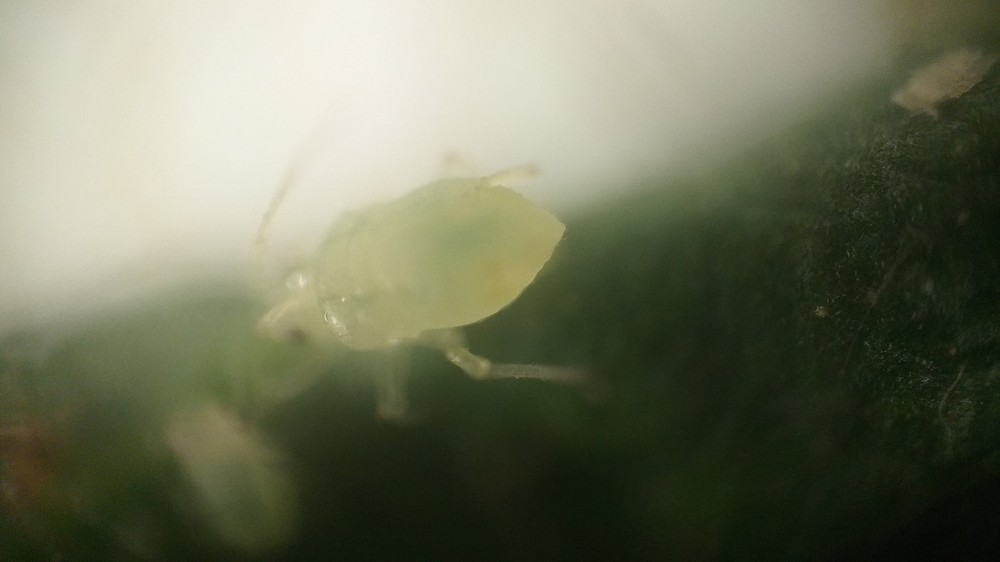Pulgon: (223, 121, 640, 433)
